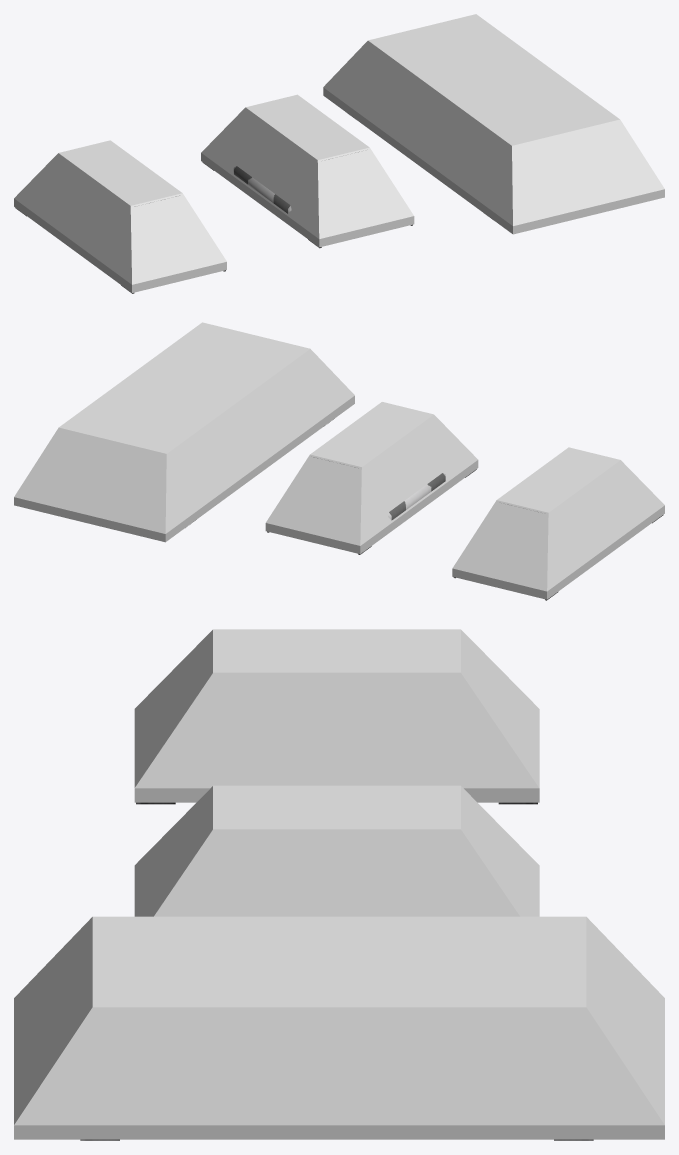
Rendered from Radial_tanks_old.fbx.
3 renders of one model, top to bottom at view 1: azimuth 30°, elevation 25°; view 2: azimuth 150°, elevation 25°; view 3: azimuth 270°, elevation 25°, orthographic. The views are drawn at different scales.
Parts seen in each view (by area): view 1: col_Tank003, col_Tank001, col_Tank002, Tank_002; view 2: col_Tank003, col_Tank001, col_Tank002, Tank_002; view 3: col_Tank003, col_Tank001, col_Tank002.
Boxes of the visible parts, x1=… form: col_Tank003: x1=323, y1=14, x2=664, y2=234; col_Tank001: x1=14, y1=140, x2=226, y2=292; col_Tank002: x1=201, y1=94, x2=414, y2=247; Tank_002: x1=202, y1=151, x2=412, y2=248; col_Tank003: x1=14, y1=322, x2=354, y2=542; col_Tank001: x1=452, y1=447, x2=664, y2=599; col_Tank002: x1=265, y1=402, x2=478, y2=554; Tank_002: x1=267, y1=457, x2=476, y2=554; col_Tank003: x1=14, y1=916, x2=664, y2=1139; col_Tank001: x1=134, y1=629, x2=539, y2=802; col_Tank002: x1=134, y1=785, x2=539, y2=916.
Bounding box in the file's own units: 532 × 352 × 70.56.
